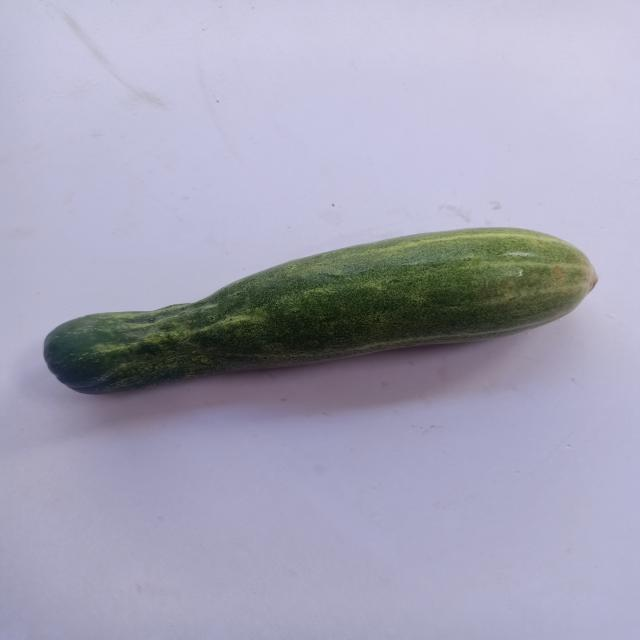Cucumber: (43, 228, 598, 394)
